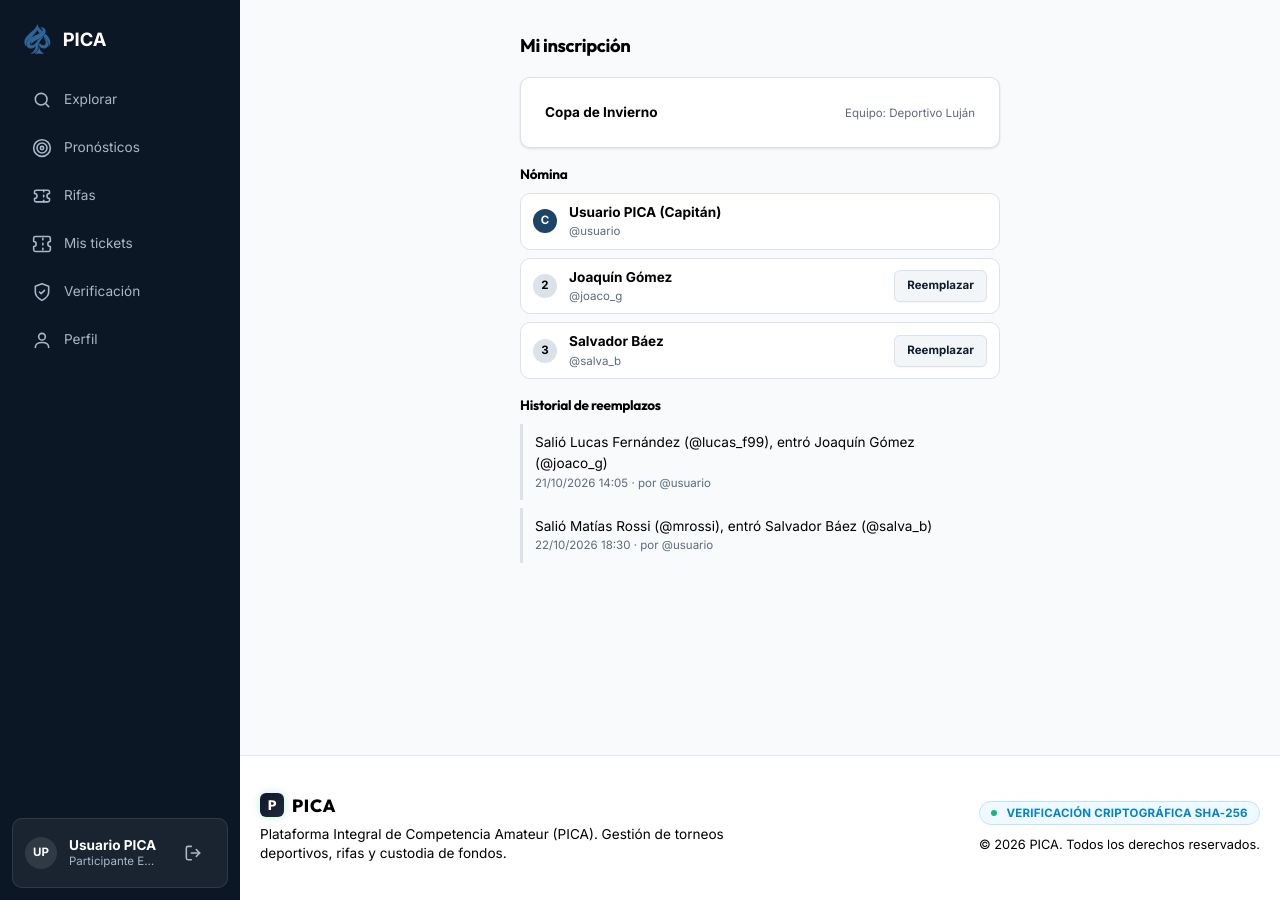
Test: reemplazar un jugador › cancelar cierra el reemplazo sin cambiar nada
Click the button with aria-label "Reemplazar a Joaquín Gómez" at (941, 286), box [894,270,987,302]
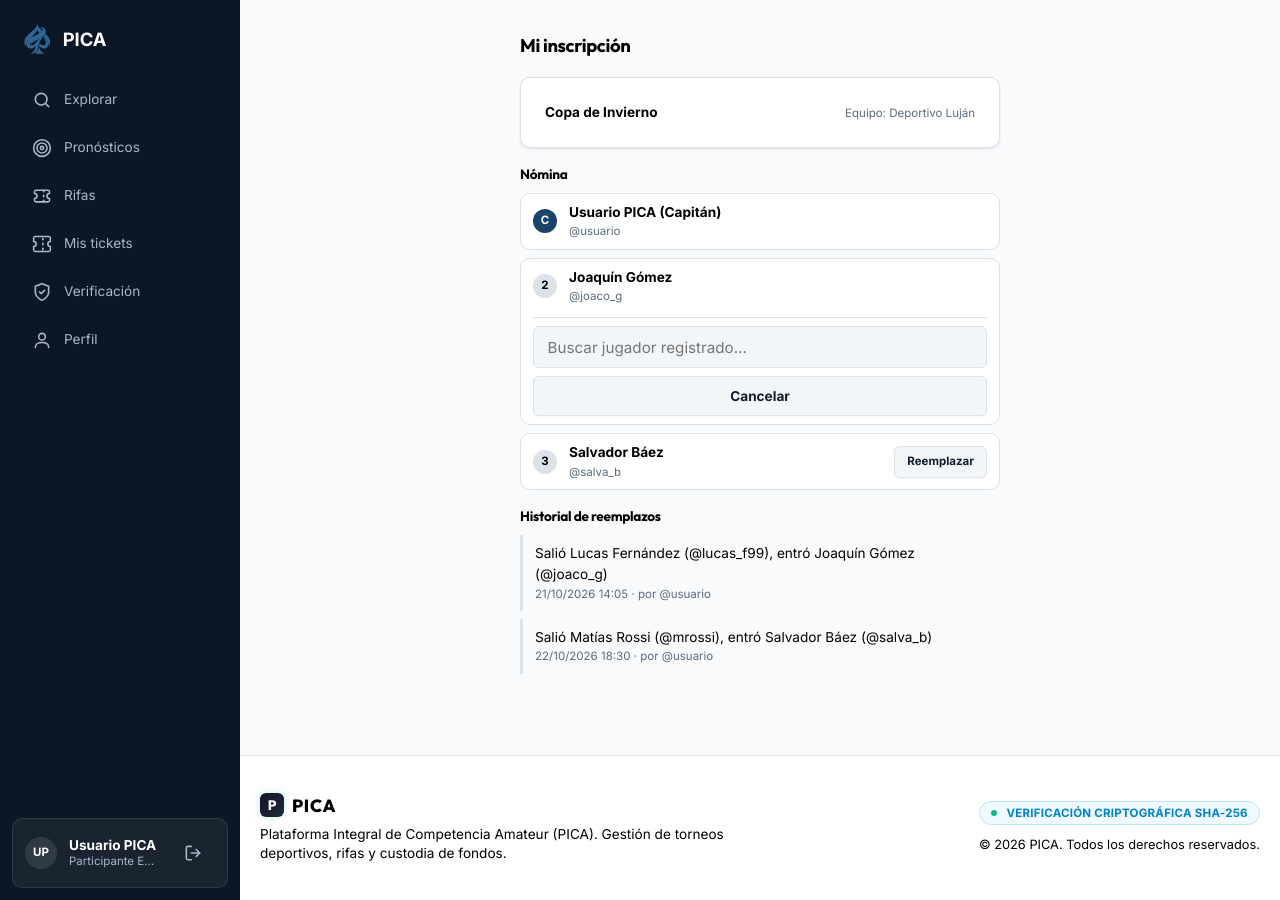
Type "lucas" into the search field labelled "Buscar jugador" at (760, 348), box [533,326,987,368]
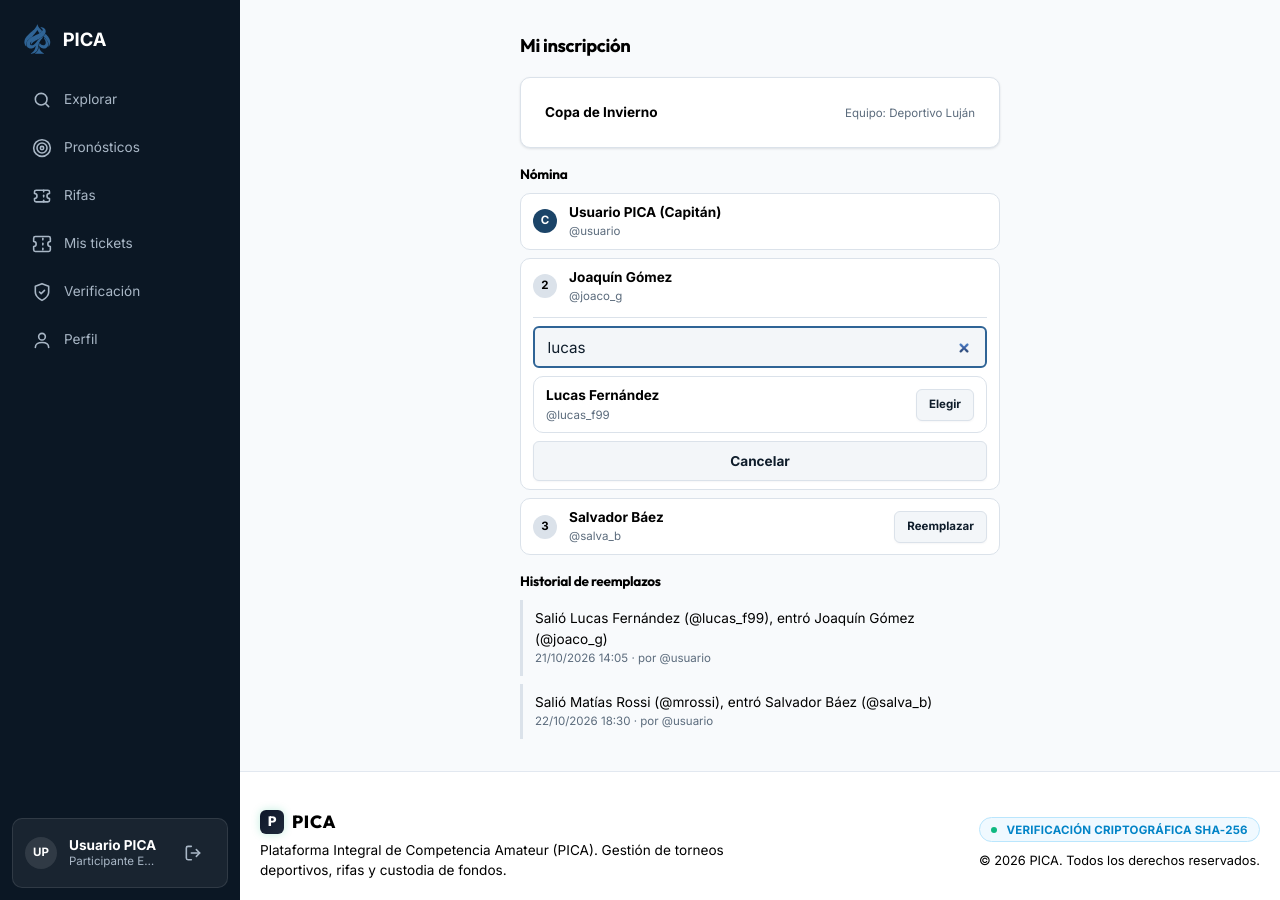
Click the button with aria-label "Elegir a Lucas Fernández" at (945, 405), box [916,389,974,421]
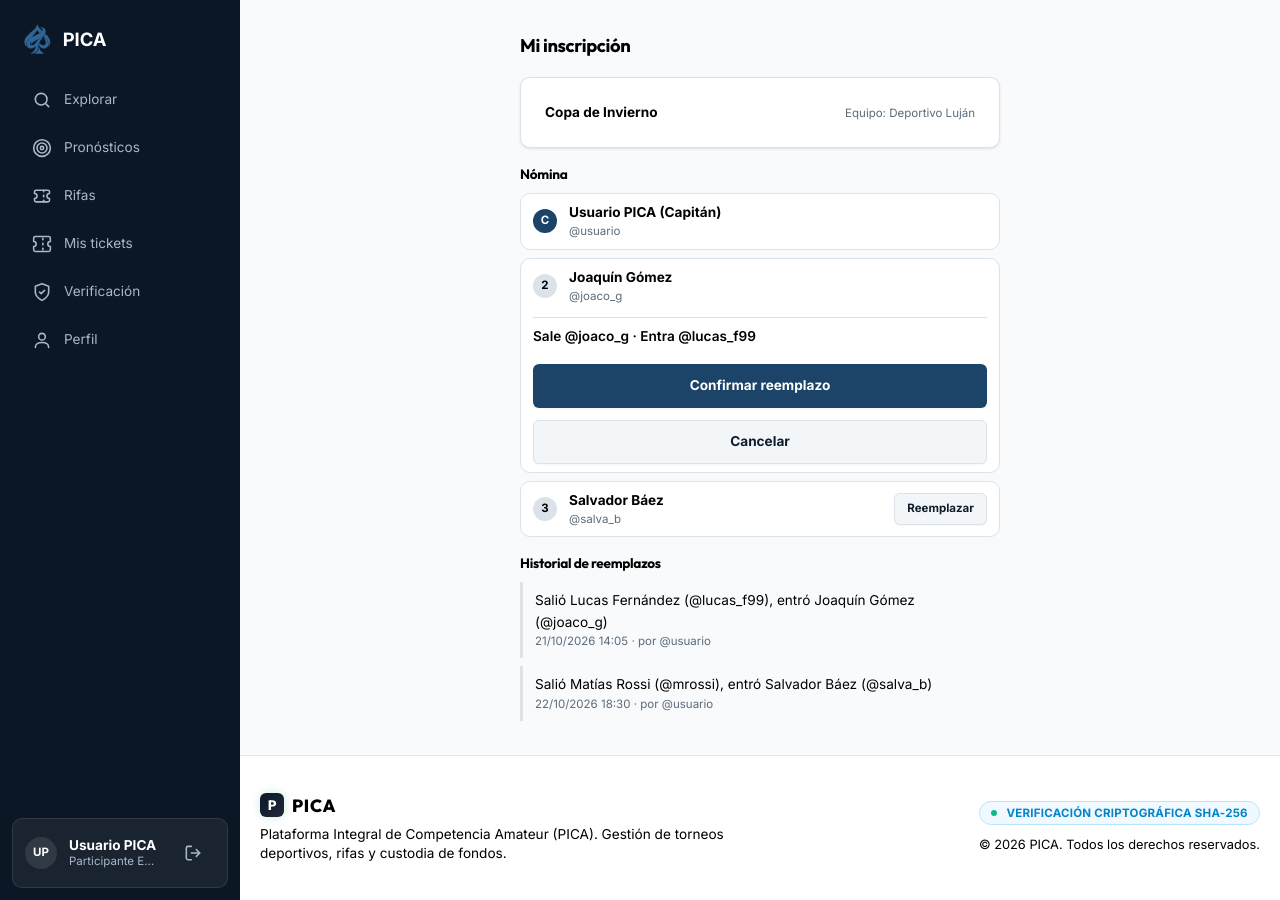
Click the button "Cancelar" at (760, 442), box [533,420,987,464]
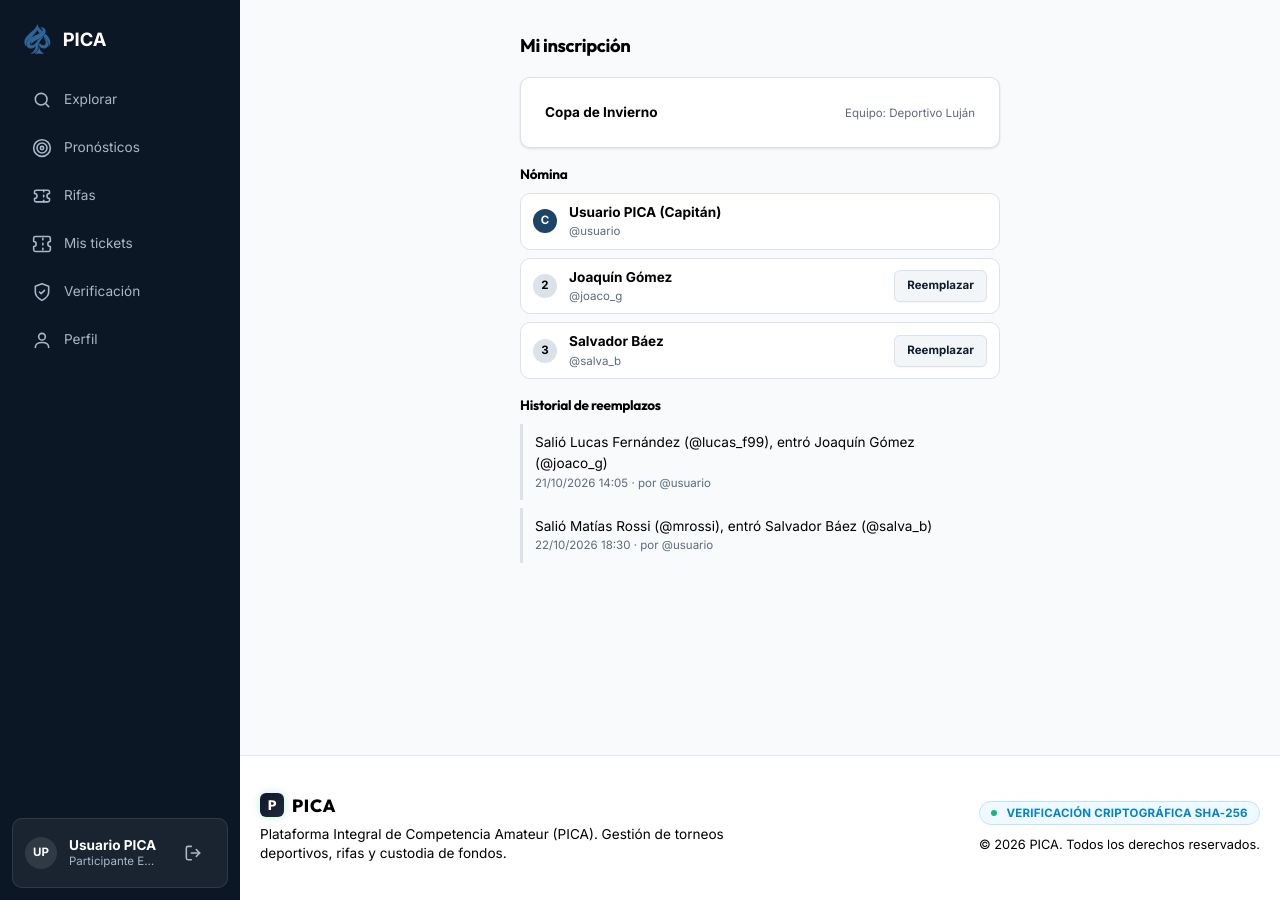
Expected: the text "Joaquín Gómez" is shown, [569,268,672,284]
Expected: the text "Sale @joaco_g · Entra @lucas_f99" is gone
